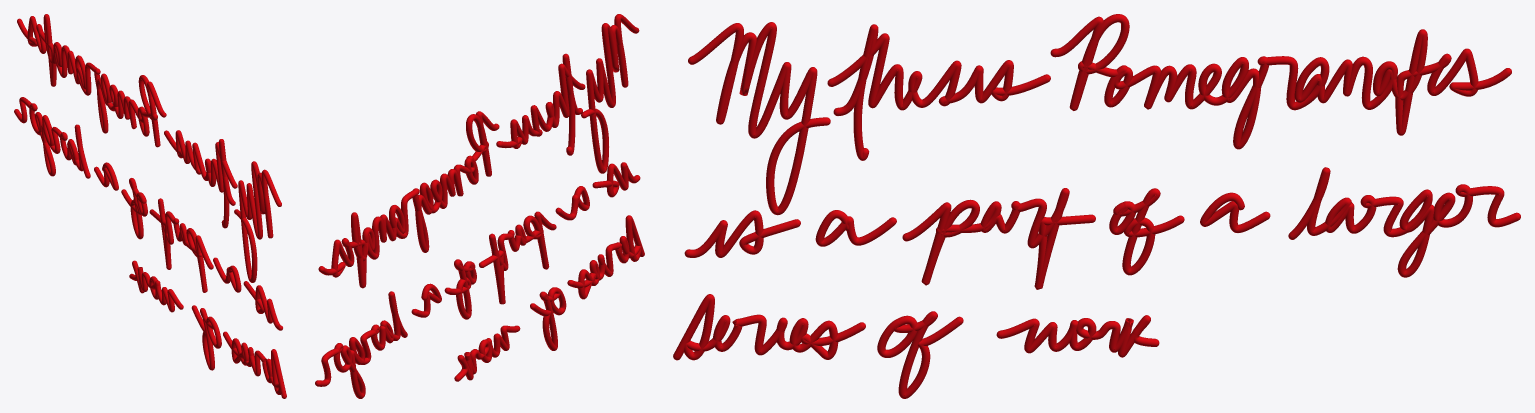
File: intro4vr2.fbx
3 renders of one model, left to right at view 1: azimuth 30°, elevation 25°; view 2: azimuth 150°, elevation 25°; view 3: azimuth 270°, elevation 25°, orthographic. The views are drawn at different scales.
Parts seen in each view (by area): view 1: s.0152, s.0149, s.0160, s.0155, s.0151, s.0161, s.0166, s.0162, s.0156, s.0153, s.0150, s.0154 (+1 smaller); view 2: s.0152, s.0149, s.0160, s.0155, s.0151, s.0161, s.0166, s.0162, s.0156, s.0153, s.0150, s.0154 (+1 smaller); view 3: s.0152, s.0149, s.0160, s.0155, s.0151, s.0161, s.0166, s.0162, s.0156, s.0153, s.0150, s.0154 (+1 smaller).
Part boxes in pixels (box(x1,y1,x2,y2)): s.0152: box(17, 14, 166, 147); s.0149: box(234, 161, 281, 282); s.0160: box(14, 97, 90, 178); s.0155: box(149, 198, 213, 292); s.0151: box(164, 130, 237, 192); s.0161: box(223, 331, 286, 398); s.0166: box(129, 260, 183, 312); s.0162: box(191, 305, 221, 370); s.0156: box(121, 178, 147, 239); s.0153: box(243, 281, 282, 330); s.0150: box(218, 139, 235, 228); s.0154: box(213, 257, 241, 292); s.0152: box(318, 111, 499, 288); s.0149: box(581, 14, 639, 173); s.0160: box(315, 291, 407, 398); s.0155: box(479, 211, 556, 304); s.0151: box(496, 63, 585, 148); s.0161: box(567, 215, 644, 299); s.0166: box(454, 325, 520, 381); s.0162: box(530, 287, 566, 350); s.0156: box(444, 259, 476, 319); s.0153: box(592, 162, 640, 197); s.0150: box(562, 53, 582, 155); s.0154: box(555, 186, 589, 220); s.0152: box(1050, 14, 1511, 149); s.0149: box(688, 22, 830, 215); s.0160: box(1288, 167, 1520, 277); s.0155: box(902, 188, 1095, 289); s.0151: box(827, 33, 1050, 110); s.0161: box(673, 294, 865, 360); s.0166: box(996, 315, 1159, 357); s.0162: box(877, 311, 963, 398); s.0156: box(1109, 188, 1184, 275); s.0153: box(684, 210, 800, 257); s.0150: box(833, 24, 878, 160); s.0154: box(815, 210, 896, 246).
Size of the model in its own units: 33.28 by 3355 by 1678.
